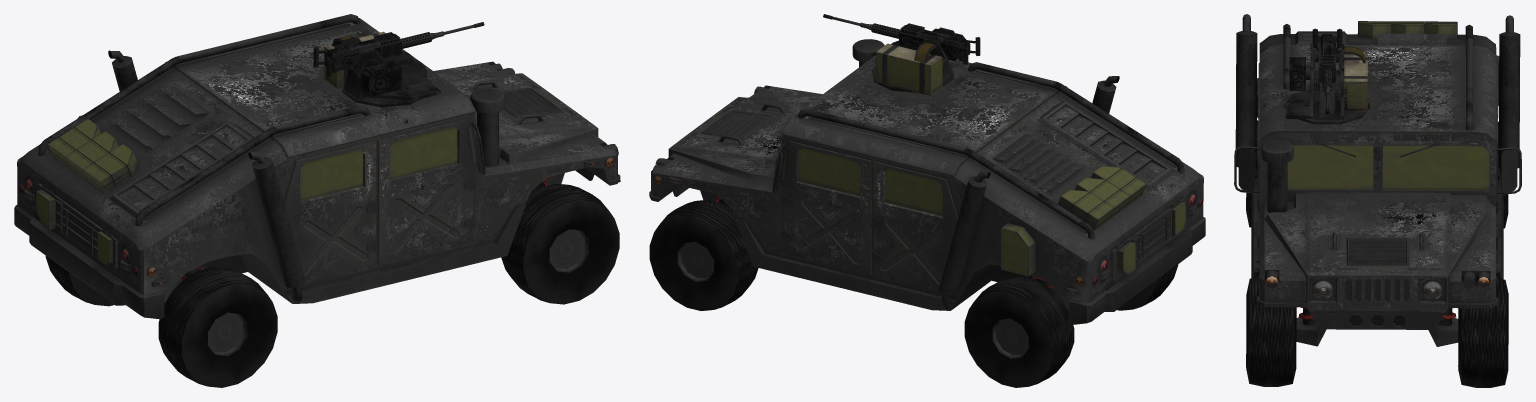
The model's file is humvee.obj.
The picture shows the model from 3 angles, left to right: view 1: azimuth 30°, elevation 25°; view 2: azimuth 150°, elevation 25°; view 3: azimuth 270°, elevation 25°; orthographic projection. The views are drawn at different scales.
Parts seen in each view (by area): view 1: pskmat0.008; view 2: pskmat0.008; view 3: pskmat0.008.
Boxes of the visible parts, x1=… form: pskmat0.008: x1=14, y1=14, x2=620, y2=387; pskmat0.008: x1=649, y1=14, x2=1205, y2=387; pskmat0.008: x1=1234, y1=14, x2=1521, y2=387.
Bounding box in the file's own units: 2 × 1.07 × 1.08.
1 material, 1 textured.
